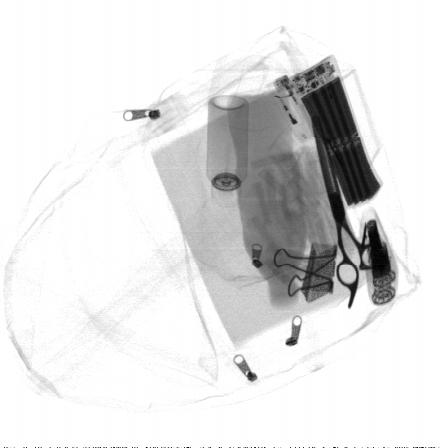Lighter: (272, 74, 316, 143)
Powerbank: (290, 53, 384, 208)
Scissors: (312, 115, 382, 308)
Sprayer: (207, 95, 249, 207)
